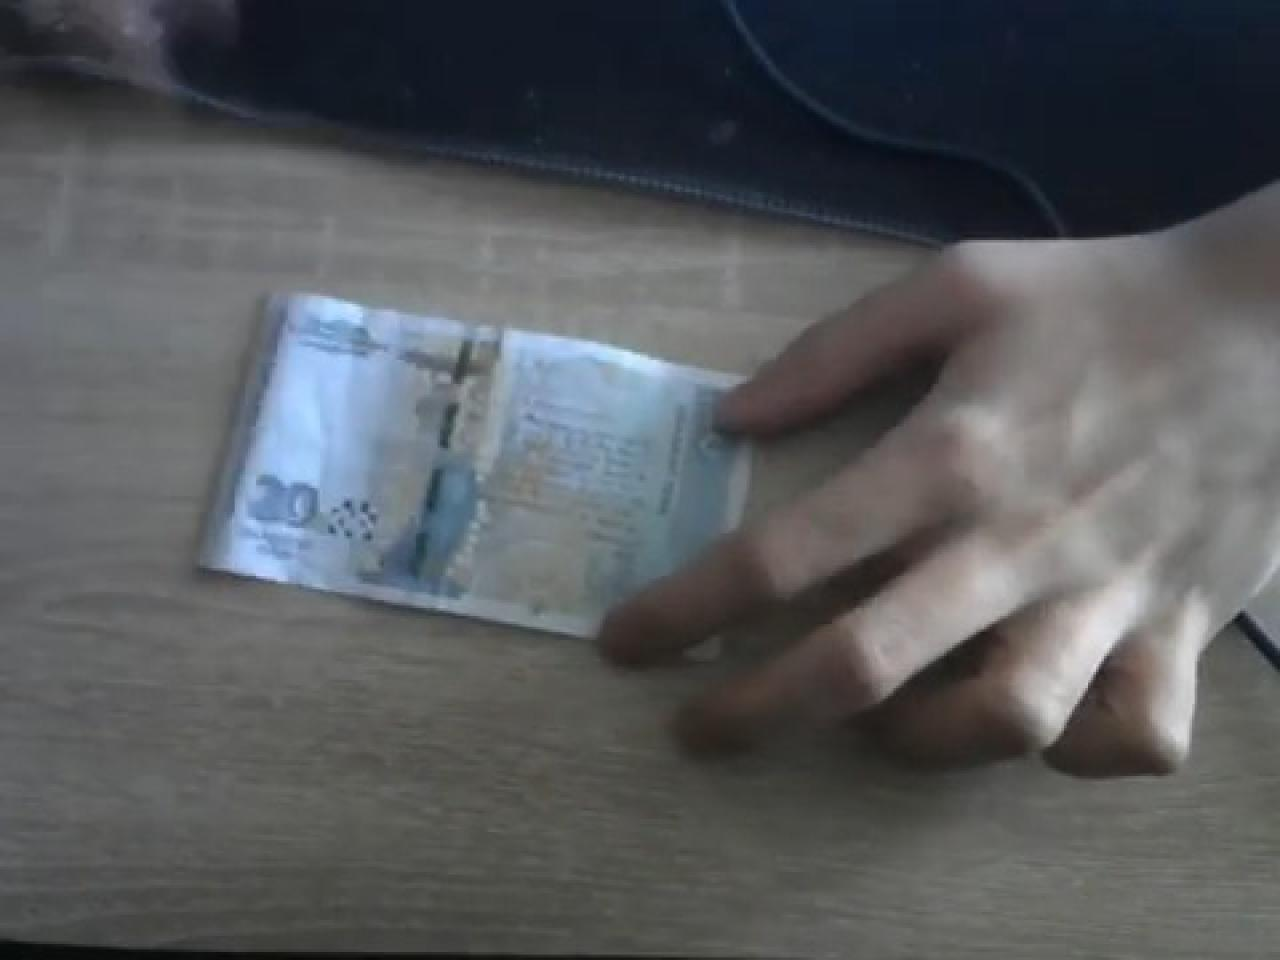20leva: (240, 302, 749, 640)
